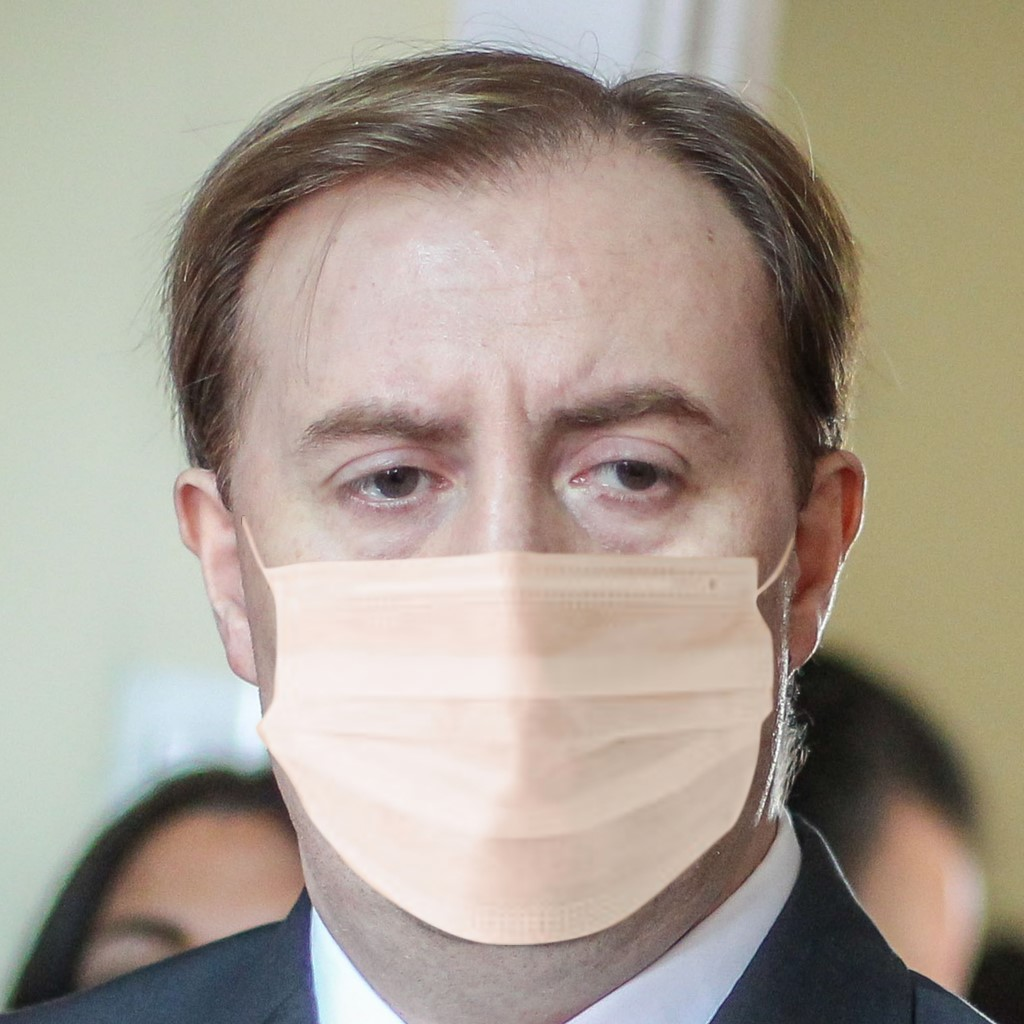con_mascara: (199, 143, 824, 952)
